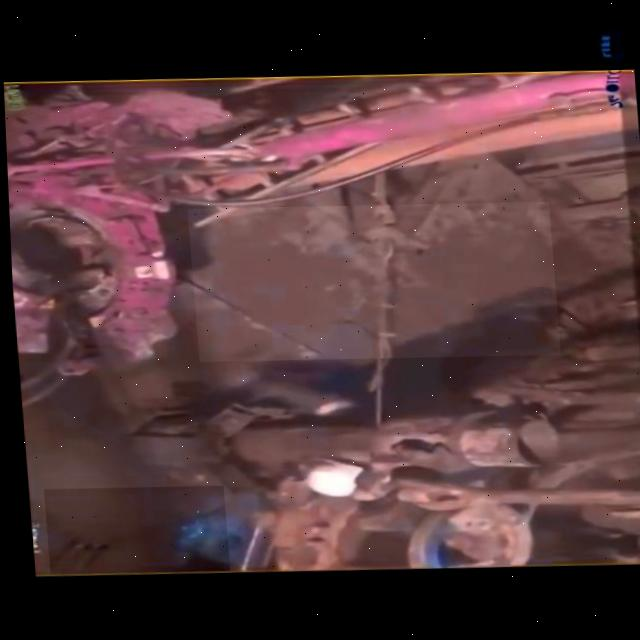spillage: (185, 200, 556, 361), (38, 486, 223, 573)
